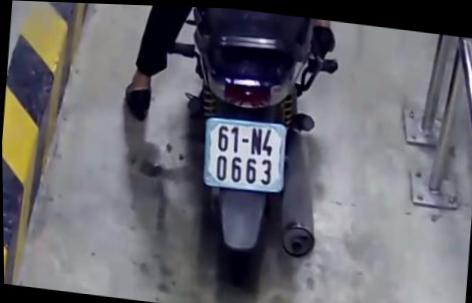LP: (200, 111, 290, 195)
